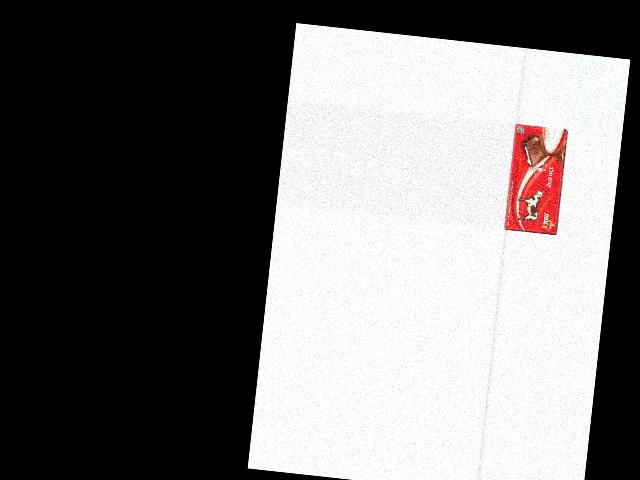chocolate: (503, 123, 568, 237)
